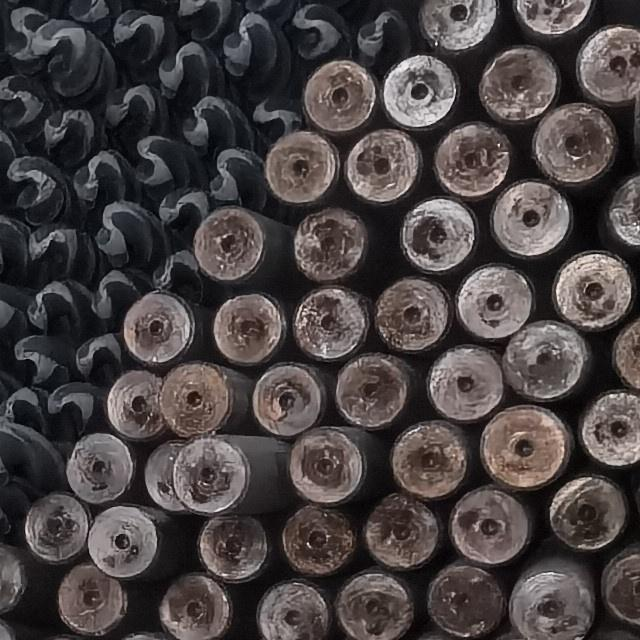tool: (462, 41, 557, 122), (477, 404, 567, 486), (543, 246, 633, 327), (542, 473, 628, 557), (529, 101, 617, 183), (161, 358, 254, 434), (503, 320, 591, 400), (291, 426, 378, 502), (420, 559, 502, 639), (489, 178, 573, 256), (446, 488, 530, 566), (419, 342, 502, 420), (455, 260, 535, 338), (434, 120, 513, 198), (363, 492, 442, 570), (47, 556, 126, 633), (194, 209, 273, 286), (390, 418, 470, 494), (507, 570, 593, 640), (396, 194, 473, 271), (343, 128, 421, 204), (334, 351, 412, 426), (89, 506, 167, 580), (333, 566, 413, 638), (297, 202, 371, 279), (381, 52, 456, 126), (252, 358, 328, 431), (374, 276, 451, 348), (303, 58, 377, 132), (291, 287, 366, 360), (173, 438, 249, 510), (264, 131, 337, 205), (123, 294, 195, 366), (215, 293, 287, 365), (578, 23, 640, 105), (281, 505, 356, 571), (160, 572, 233, 639), (578, 391, 640, 467), (197, 516, 266, 583), (65, 432, 131, 502), (26, 490, 90, 562), (255, 578, 328, 638), (106, 370, 165, 440), (414, 0, 494, 51), (594, 172, 640, 255), (146, 438, 194, 514), (600, 541, 640, 628), (512, 0, 590, 40), (612, 318, 640, 390), (0, 540, 27, 612)
tool_b: (0, 415, 65, 491), (99, 199, 172, 264), (4, 157, 72, 226), (218, 10, 285, 80), (339, 0, 411, 60), (132, 134, 204, 192), (0, 334, 74, 386), (42, 381, 107, 440), (156, 42, 222, 100), (27, 278, 94, 333), (112, 8, 176, 64), (208, 146, 266, 207), (104, 82, 167, 138), (37, 108, 97, 164), (0, 73, 51, 138), (89, 267, 144, 322), (294, 4, 346, 61), (182, 92, 234, 146), (97, 147, 143, 207), (24, 227, 86, 271), (160, 186, 212, 238), (32, 23, 88, 67), (73, 332, 123, 381), (182, 0, 243, 39), (0, 2, 48, 48), (248, 96, 298, 140), (0, 215, 31, 283), (153, 247, 198, 292), (0, 279, 33, 336), (71, 152, 102, 208), (0, 385, 41, 426), (49, 0, 122, 21), (240, 0, 301, 19), (0, 121, 18, 168)
